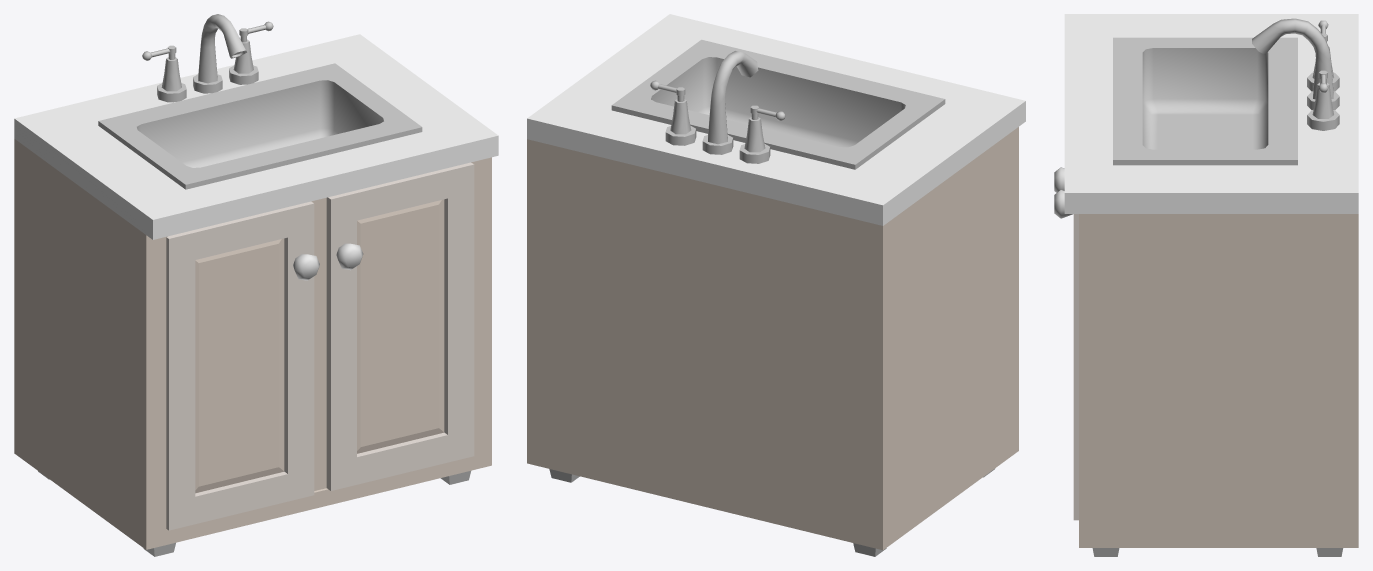
The picture shows the model from 3 angles, left to right: view 1: azimuth 30°, elevation 25°; view 2: azimuth 150°, elevation 25°; view 3: azimuth 270°, elevation 25°; orthographic projection. The views are drawn at different scales.
Visible parts, largest first — view 1: polySurface13, polySurface14, polySurface9.001, polySurface6, polySurface14.001, polySurface16.001, polySurface29.001, polySurface46.001; view 2: polySurface13, polySurface9.001, polySurface6, polySurface29.001; view 3: polySurface13, polySurface9.001, polySurface6, polySurface29.001, polySurface14, polySurface46.001, polySurface10.
Part boxes in pixels (x1,y1,x2,y2): polySurface13: (14,139,491,549); polySurface14: (166,162,474,530); polySurface9.001: (14,34,498,239); polySurface6: (98,63,422,189); polySurface14.001: (195,238,284,493); polySurface16.001: (357,199,444,453); polySurface29.001: (142,14,273,102); polySurface46.001: (293,243,363,280); polySurface13: (527,127,1018,550); polySurface9.001: (527,14,1025,225); polySurface6: (611,39,945,169); polySurface29.001: (650,51,785,163); polySurface13: (1079,214,1358,547); polySurface9.001: (1064,14,1358,213); polySurface6: (1113,37,1297,165); polySurface29.001: (1252,18,1339,130); polySurface14: (1073,214,1078,520); polySurface46.001: (1054,167,1072,218); polySurface10: (1092,548,1343,556).
Size of the model in its own units: 100 by 119 by 71.84.
